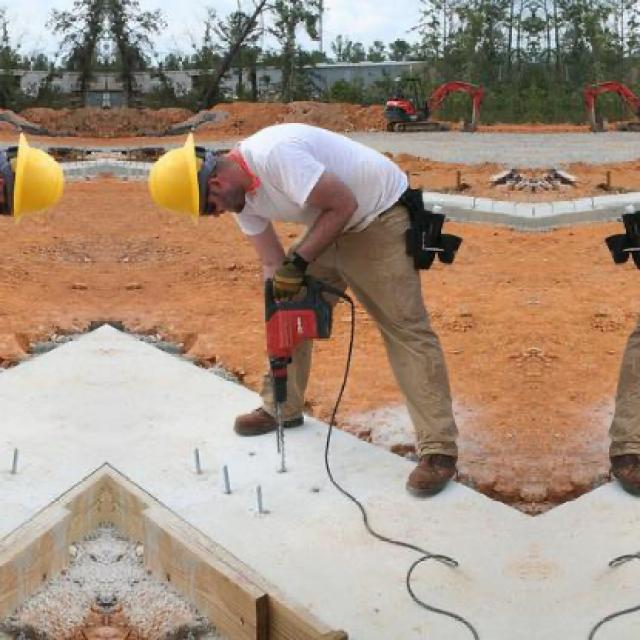2: (134, 123, 463, 492), (1, 123, 78, 494)
helmet: (143, 134, 253, 217), (1, 134, 70, 218)
